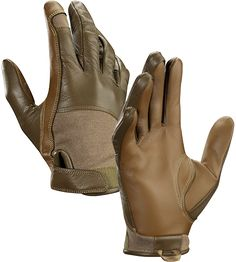gloves: (3, 0, 131, 196), (111, 50, 235, 252)
